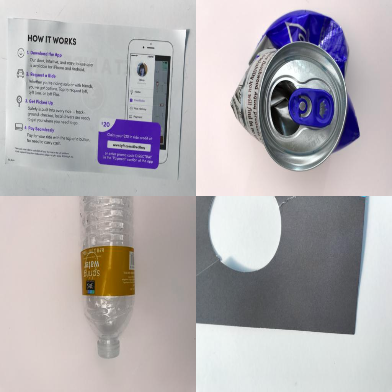metal: (228, 10, 360, 172)
paper: (4, 17, 192, 181), (197, 196, 365, 336)
plastic: (79, 194, 133, 358)
